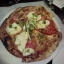pizza: (1, 6, 62, 60)
